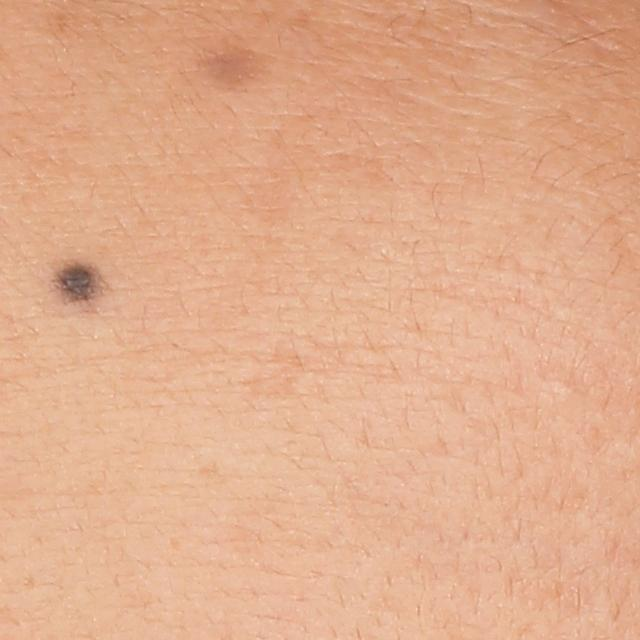nevus: (52, 260, 113, 308)
